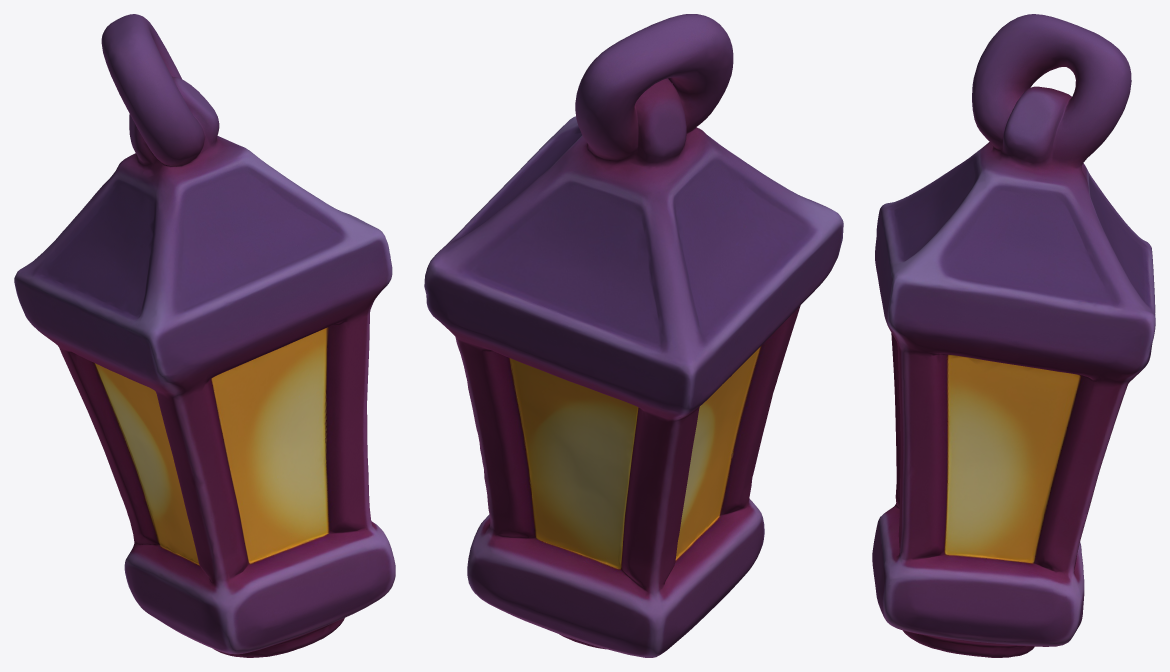
3 views of the same model, side by side, from view 1: azimuth 30°, elevation 25°; view 2: azimuth 150°, elevation 25°; view 3: azimuth 270°, elevation 25° (orthographic). The views are drawn at different scales.
Visible parts, largest first — view 1: Mesh::generatedModels/ohTs4fUccB2VbgPaIQdX.gltf; view 2: Mesh::generatedModels/ohTs4fUccB2VbgPaIQdX.gltf; view 3: Mesh::generatedModels/ohTs4fUccB2VbgPaIQdX.gltf.
Part boxes in pixels (box(x1,y1,x2,y2)): Mesh::generatedModels/ohTs4fUccB2VbgPaIQdX.gltf: box(14, 14, 395, 657); Mesh::generatedModels/ohTs4fUccB2VbgPaIQdX.gltf: box(424, 14, 843, 657); Mesh::generatedModels/ohTs4fUccB2VbgPaIQdX.gltf: box(872, 14, 1155, 657).
Size of the model in its own units: 0.4393 by 1 by 0.4392.
1 material, 1 textured.
